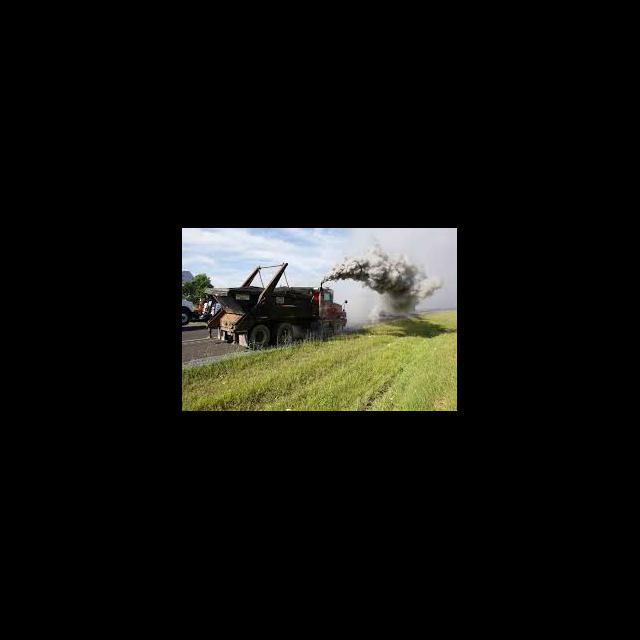Smoke: (324, 244, 442, 320)
